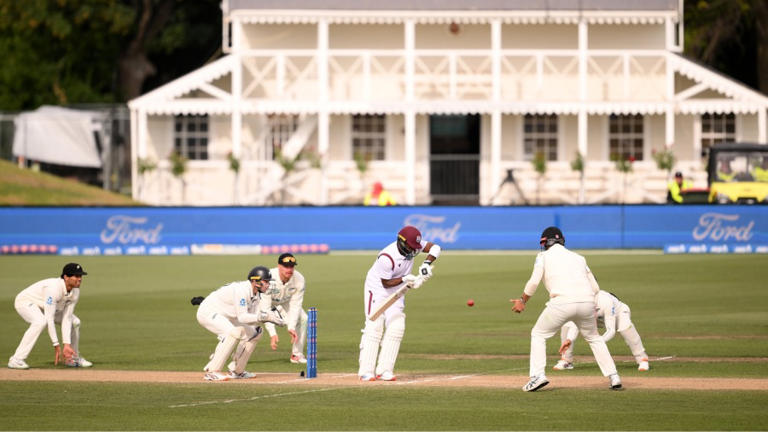Defence: (164, 52, 506, 423)
